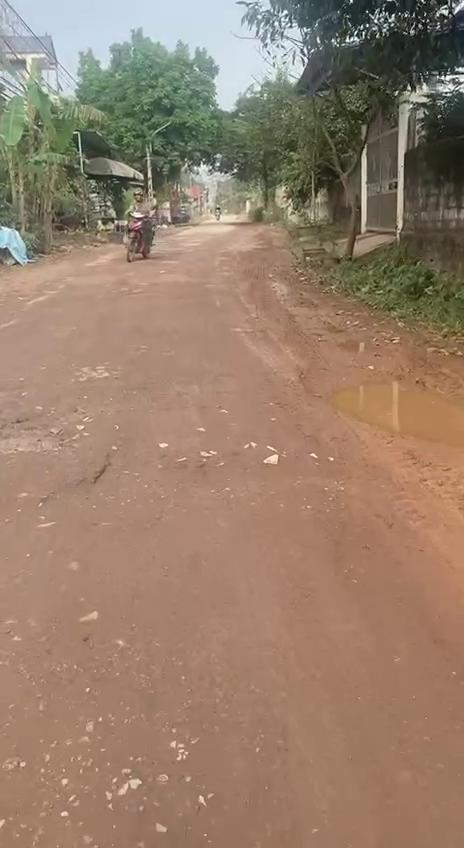pothole: (322, 380, 464, 451), (0, 409, 82, 451)
